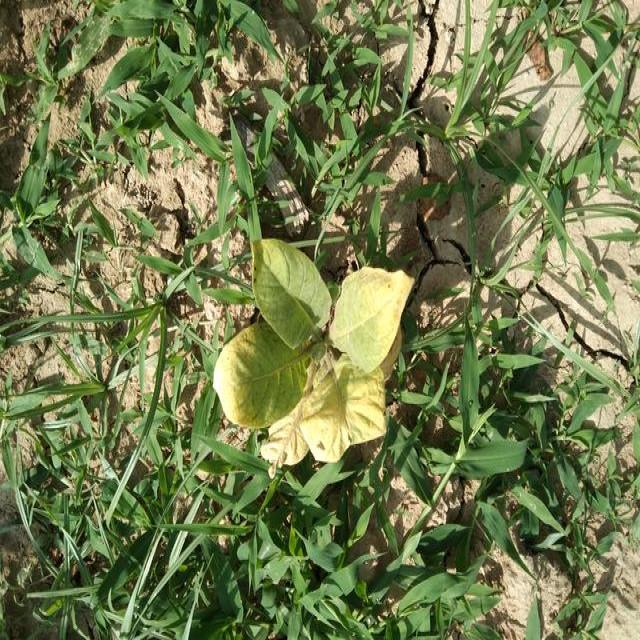crop: (218, 230, 414, 481)
